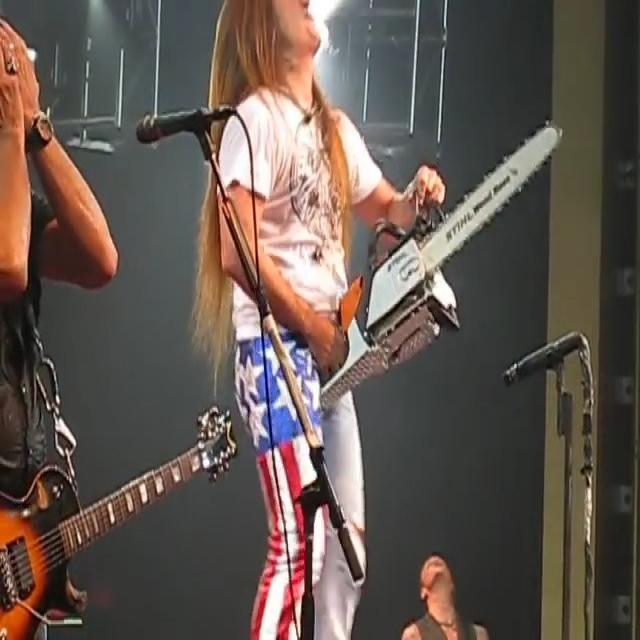Chainsaw: (311, 105, 569, 408)
